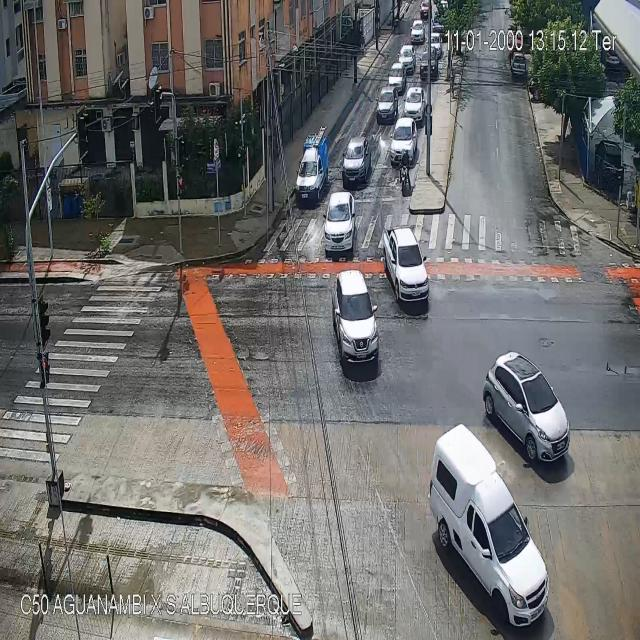Car: (430, 423, 548, 628), (484, 351, 571, 462), (332, 266, 382, 372), (385, 226, 432, 310), (323, 191, 357, 251), (296, 147, 328, 204), (342, 137, 371, 182), (391, 118, 417, 162), (375, 86, 399, 123), (404, 87, 426, 125), (420, 46, 438, 79), (388, 63, 408, 90), (397, 46, 415, 72), (429, 31, 442, 56), (511, 55, 526, 76), (411, 22, 425, 42), (420, 1, 429, 22)
Motorcycle: (399, 151, 412, 194)
